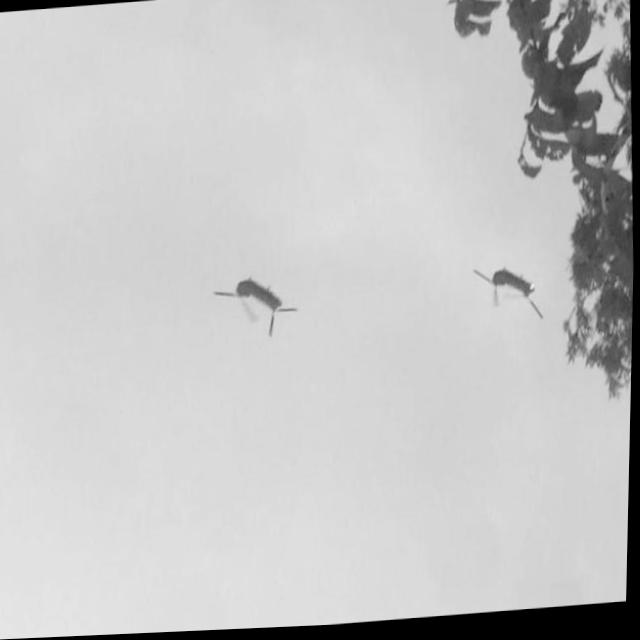helikopter: (202, 256, 312, 356), (450, 249, 554, 344)
